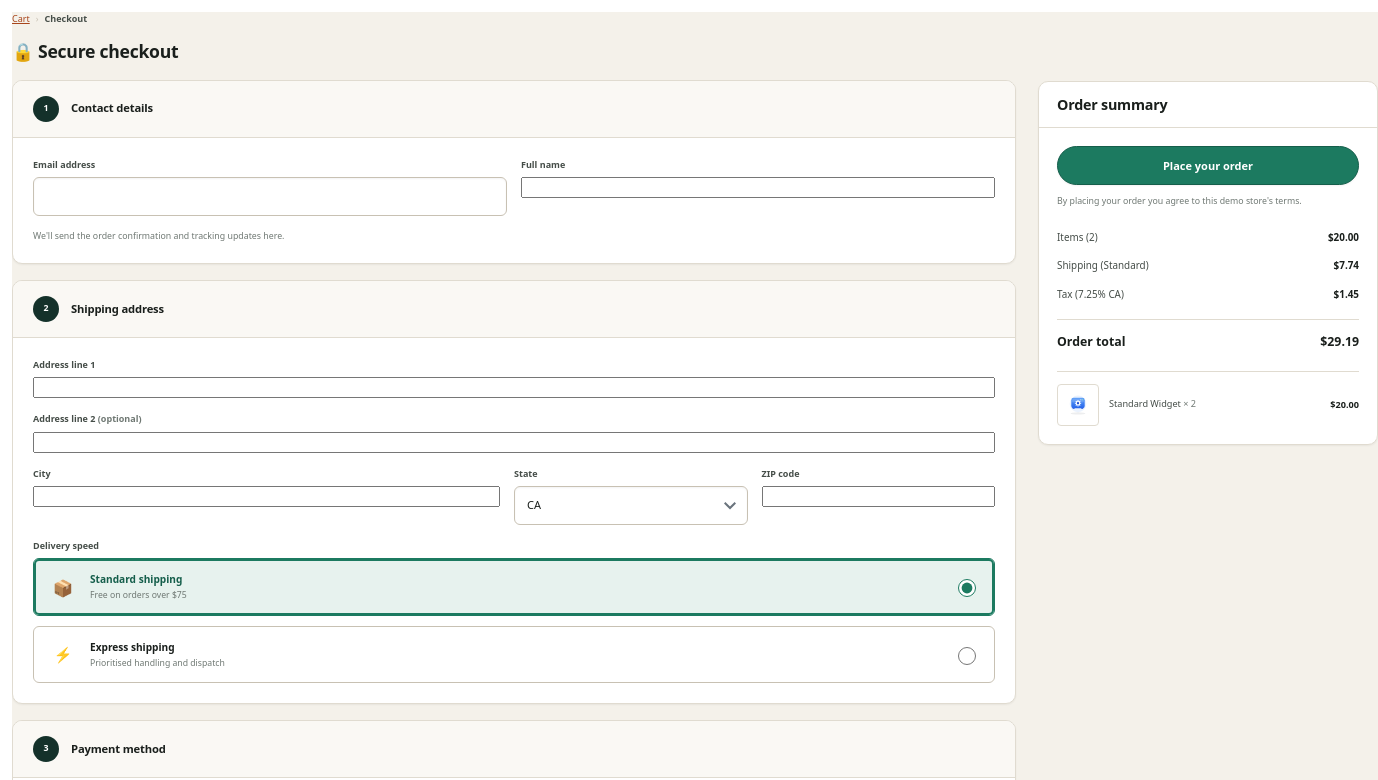
it: CheckoutPage › re-quotes when the shipping method changes
The width and height of the screenshot is (1378, 780).
Expected: the text "$29.19" is shown, [1320,333,1359,351]
Click the radio button labelled "⚡ Express shipping Prioritised handling and dispatch": (967, 656) [958,647,976,665]
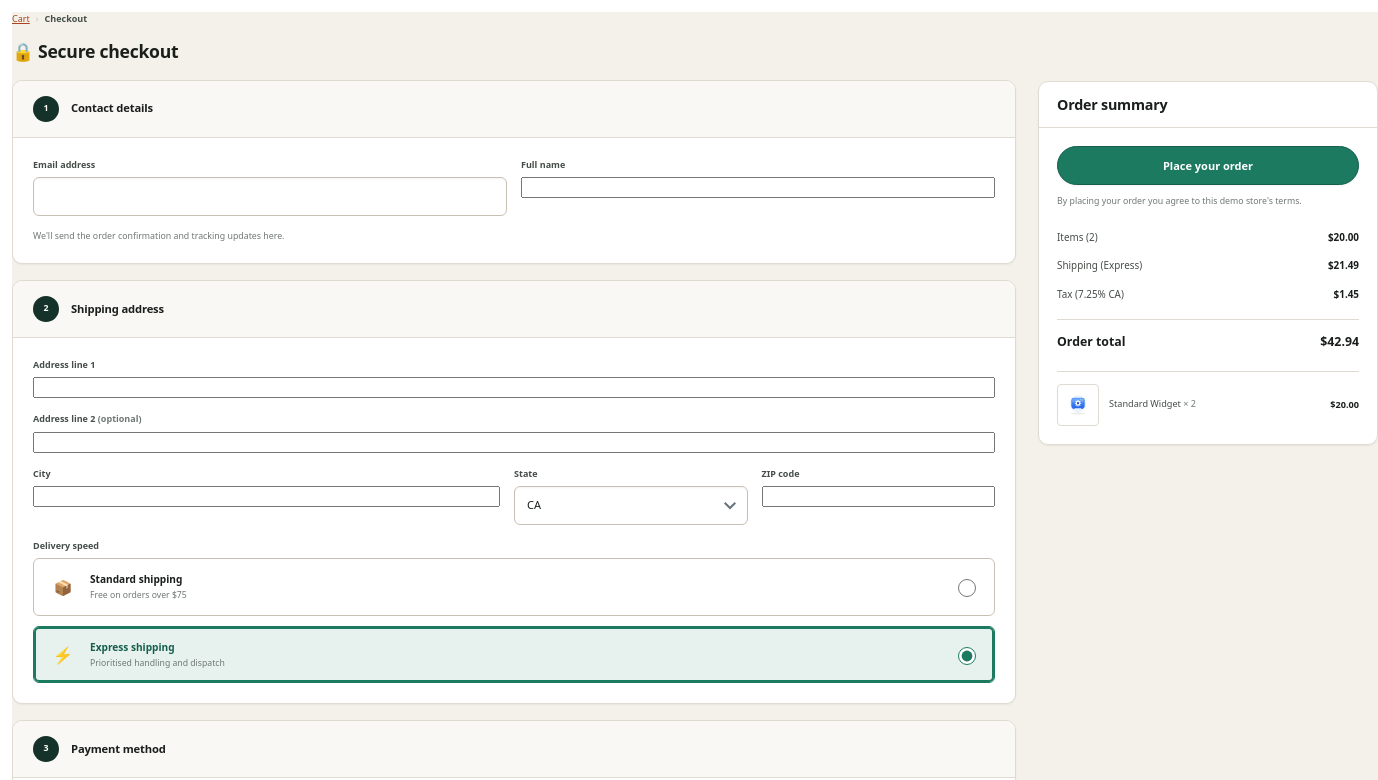
Expected: the text "$42.94" is shown, [1320,333,1359,351]
